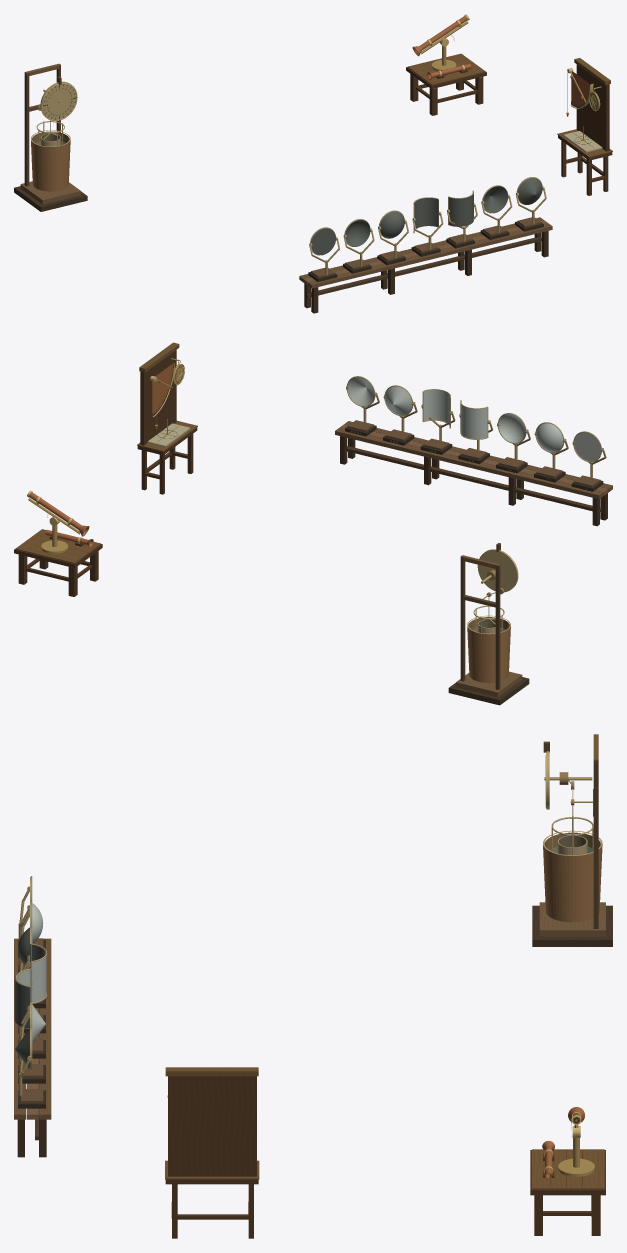
The model's file is al-bayt-al-muzlim-instruments.glb.
The picture shows the model from 3 angles, top to bottom: view 1: azimuth 30°, elevation 25°; view 2: azimuth 150°, elevation 25°; view 3: azimuth 270°, elevation 25°; orthographic projection. The views are drawn at different scales.
Parts seen in each view (by area): view 1: Instrument Mirror Display, Instrument Tube Stand, Instrument Waterclock Plinth, Instrument Waterclock Tank, Instrument Astronomy Panel, Instrument Astronomy Console, Instrument Mirror Cylindrical Convex Mount, Instrument Waterclock Dial, Instrument Mirror Cylindrical Concave Mount, Instrument Mirror Spherical Convex Mount, Instrument Mirror Spherical Concave Mount, Instrument Mirror Conical Concave Mount (+6 smaller); view 2: Instrument Mirror Display, Instrument Waterclock Plinth, Instrument Tube Stand, Instrument Astronomy Panel, Instrument Waterclock Tank, Instrument Astronomy Console, Instrument Waterclock Dial, Instrument Mirror Cylindrical Convex Surface, Instrument Mirror Cylindrical Concave Surface, Instrument Meridian Quadrant, Instrument Mirror Cylindrical Concave Mount, Instrument Mirror Conical Convex Mount (+13 smaller); view 3: Instrument Astronomy Panel, Instrument Waterclock Tank, Instrument Waterclock Plinth, Instrument Tube Stand, Instrument Mirror Display, Instrument Astronomy Console, Instrument Mirror Conical Concave Mount, Instrument Mirror Cylindrical Concave Mount, Instrument Tube Support.
Part boxes in pixels (x1,y1,x2,y2): Instrument Mirror Display: (299,217,552,313); Instrument Tube Stand: (406,53,486,115); Instrument Waterclock Plinth: (14,63,87,211); Instrument Waterclock Tank: (31,130,70,191); Instrument Astronomy Panel: (574,58,610,151); Instrument Astronomy Console: (557,129,612,195); Instrument Mirror Cylindrical Convex Mount: (411,197,443,256); Instrument Waterclock Dial: (40,81,77,120); Instrument Mirror Cylindrical Concave Mount: (446,190,477,248); Instrument Mirror Spherical Convex Mount: (343,219,374,273); Instrument Mirror Spherical Concave Mount: (377,210,408,265); Instrument Mirror Conical Concave Mount: (515,177,546,231); Instrument Mirror Display: (335,421,612,526); Instrument Waterclock Plinth: (448,555,529,705); Instrument Tube Stand: (14,529,102,596); Instrument Astronomy Panel: (139,342,179,445); Instrument Waterclock Tank: (467,615,510,682); Instrument Astronomy Console: (137,420,197,494); Instrument Waterclock Dial: (477,549,518,592); Instrument Mirror Cylindrical Convex Surface: (460,403,487,438); Instrument Mirror Cylindrical Concave Surface: (423,390,450,422); Instrument Meridian Quadrant: (150,363,174,429); Instrument Mirror Cylindrical Concave Mount: (420,389,455,454); Instrument Mirror Conical Convex Mount: (383,385,417,445); Instrument Astronomy Panel: (165,1067,258,1176); Instrument Waterclock Tank: (543,830,602,922); Instrument Waterclock Plinth: (532,734,612,946); Instrument Tube Stand: (530,1149,605,1235); Instrument Mirror Display: (14,938,51,1157); Instrument Astronomy Console: (165,1160,259,1238); Instrument Mirror Conical Concave Mount: (15,1026,45,1108); Instrument Mirror Cylindrical Concave Mount: (14,968,45,1058); Instrument Tube Support: (543,1118,594,1177).
Size of the model in its own units: 14.09 by 3.76 by 10.89.
Materials: 7 (7 with a texture image).
